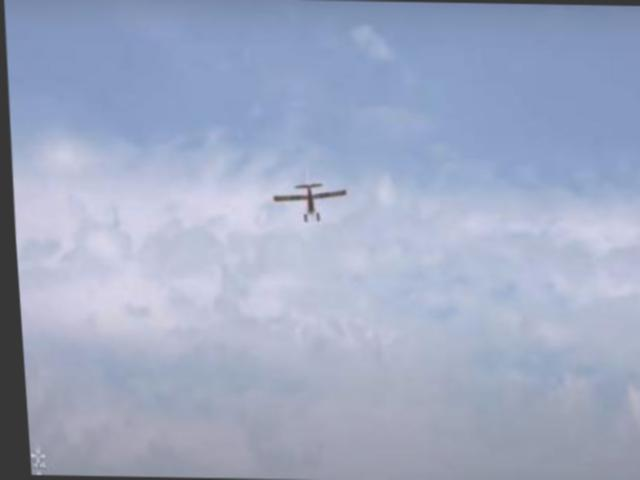uav: (265, 166, 349, 228)
